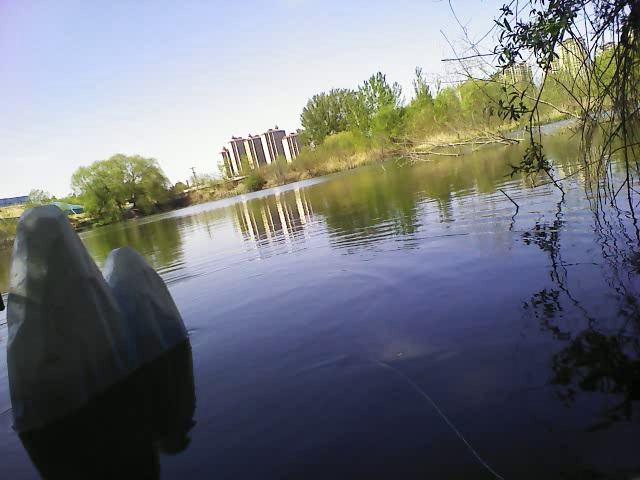iceberg: (7, 200, 192, 431)
